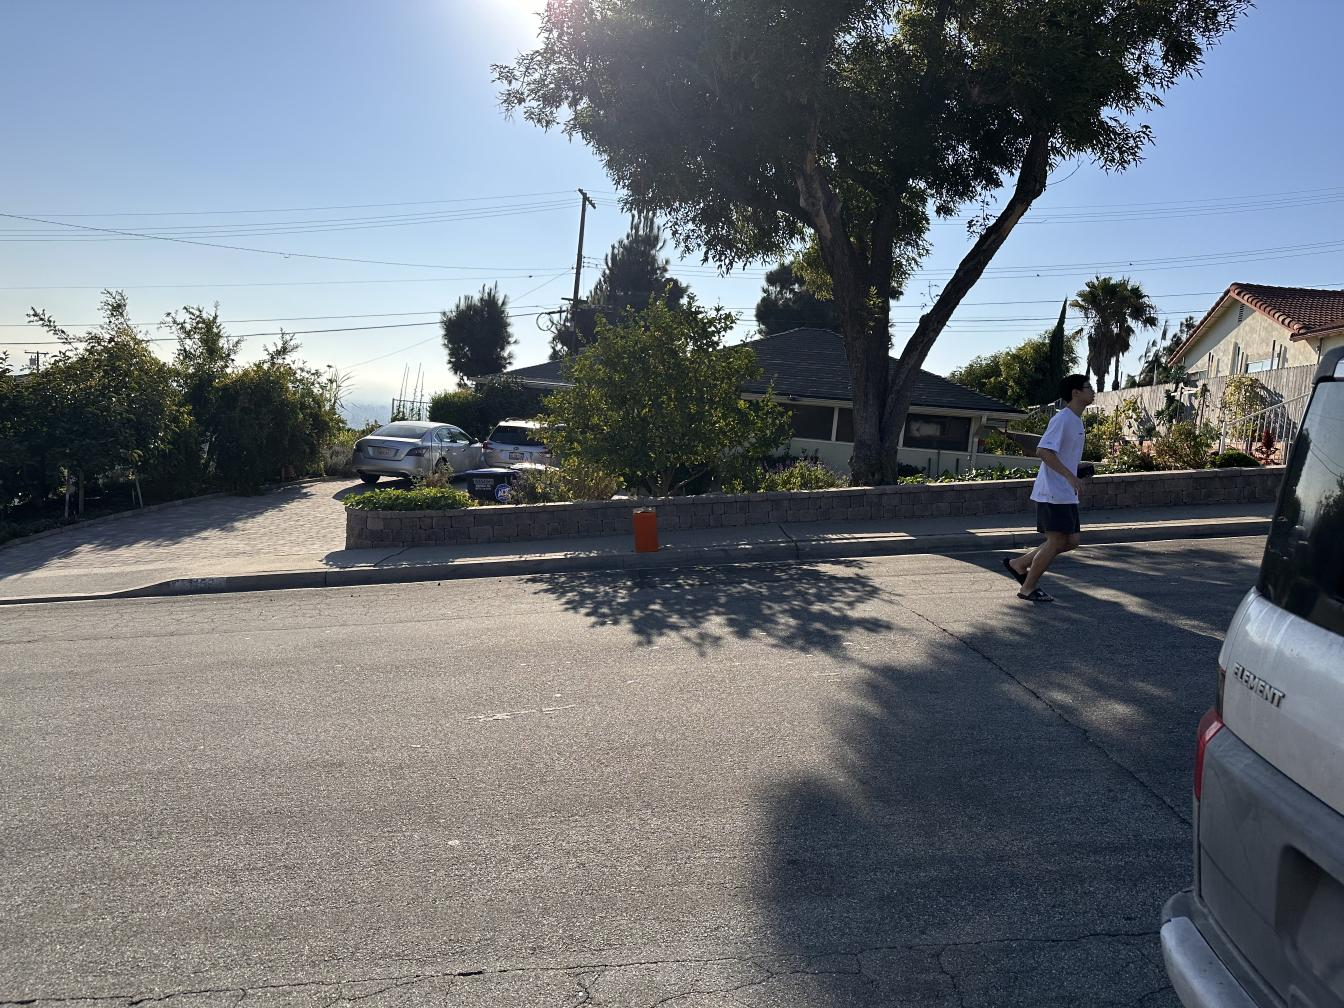curbs-laRr: (675, 528, 993, 566), (373, 552, 618, 589), (179, 564, 370, 608), (1092, 506, 1271, 547)
orange box: (631, 508, 661, 554)
